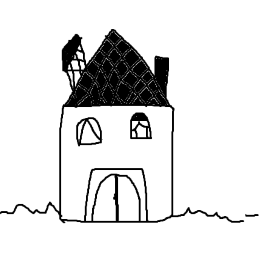chimney: (50, 20, 90, 87), (148, 49, 174, 98)
door: (75, 157, 158, 229)
open_window: (66, 112, 109, 147), (123, 109, 162, 144)
shaded_roof: (37, 25, 196, 110)
wall: (53, 100, 182, 231)
